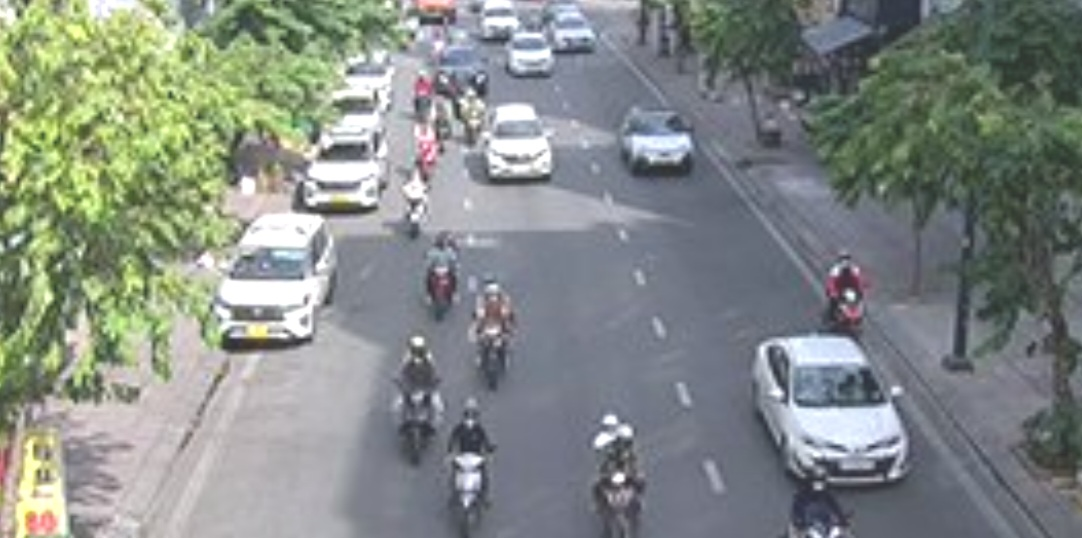car: (751, 336, 911, 492), (206, 209, 337, 341), (303, 130, 393, 208), (480, 105, 556, 181), (619, 107, 695, 180), (436, 43, 491, 94), (506, 31, 552, 81), (548, 14, 601, 51), (479, 1, 521, 42)
